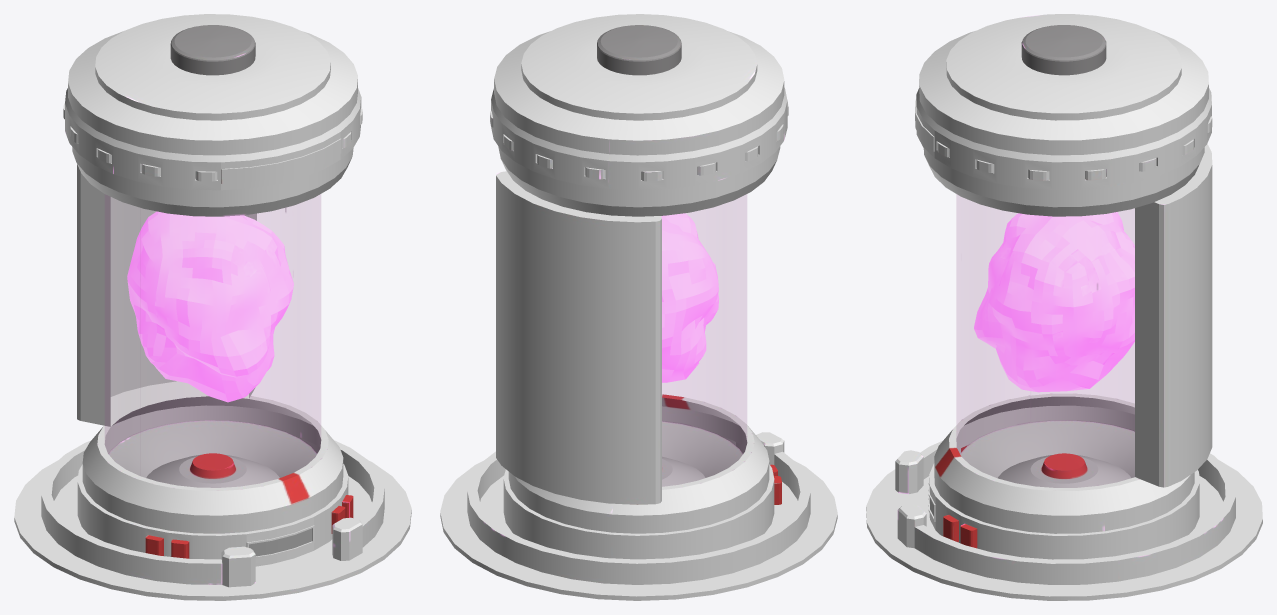
The picture shows the model from 3 angles, left to right: view 1: azimuth 30°, elevation 25°; view 2: azimuth 150°, elevation 25°; view 3: azimuth 270°, elevation 25°; orthographic projection.
Visible parts, largest first — view 1: Cylinder; view 2: Cylinder; view 3: Cylinder.
Boxes of the visible parts, x1,y1,x2,y2 form: Cylinder: (14,14,411,600); Cylinder: (440,14,837,600); Cylinder: (866,14,1262,600).
Size of the model in its own units: 355 by 471 by 355.
Materials: 1 (1 with a texture image).
